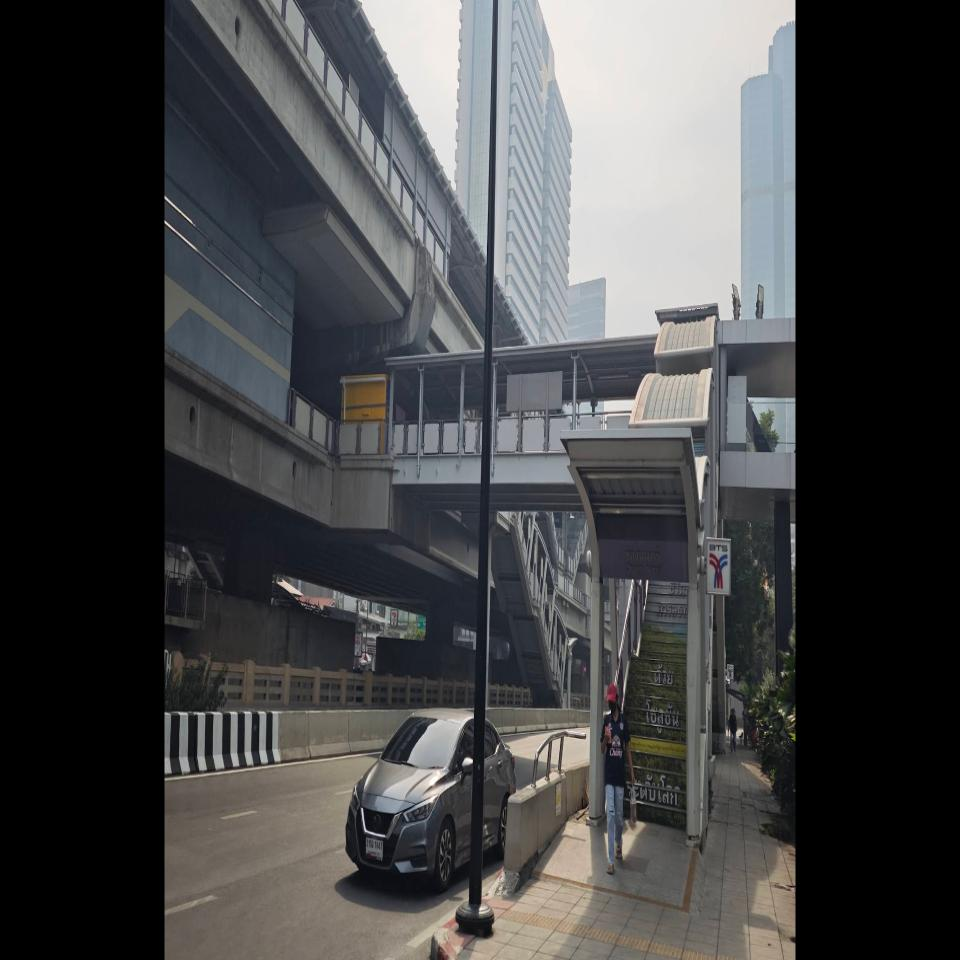signage: (598, 536, 732, 596), (598, 536, 689, 582)
